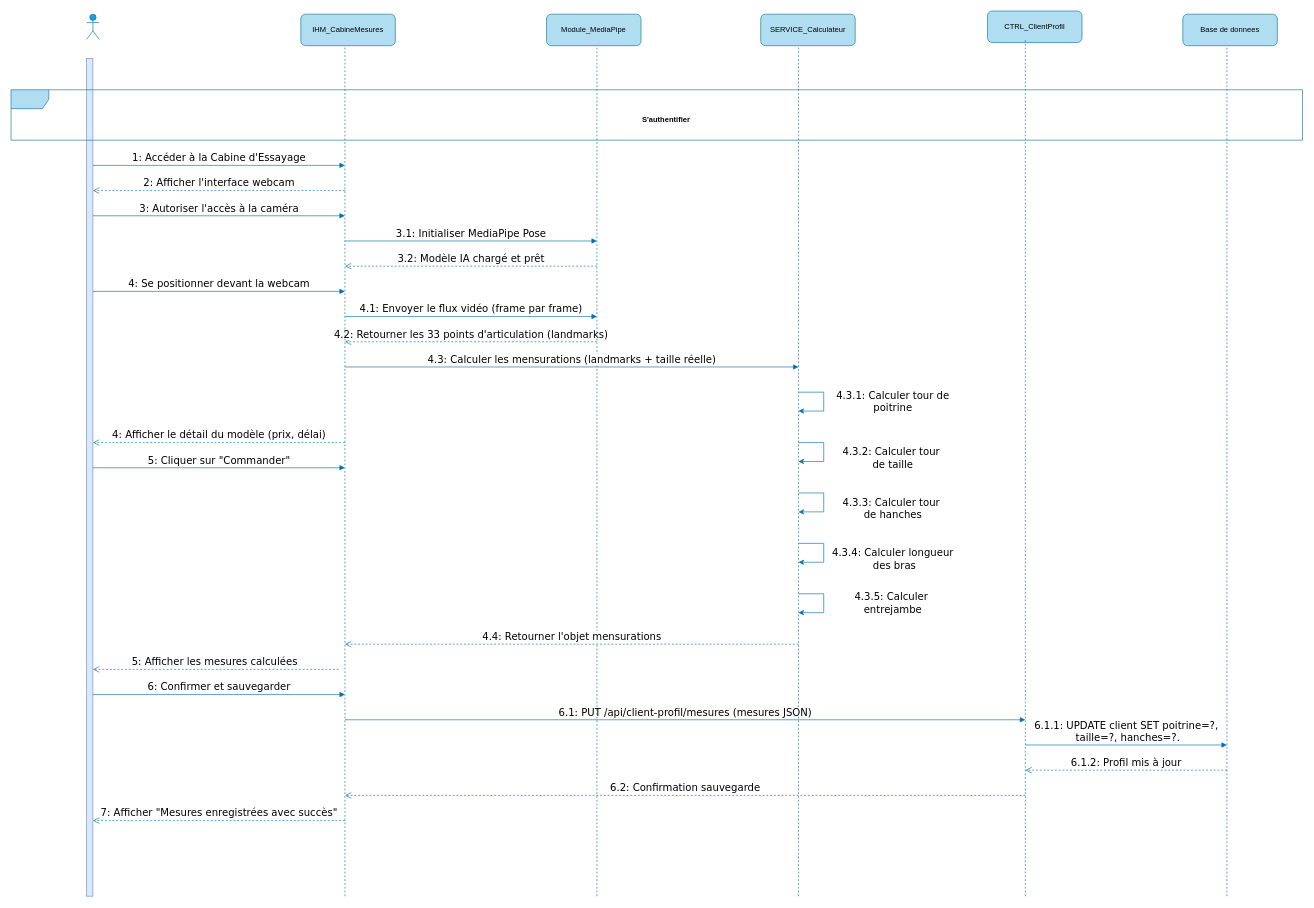
Some shapes in this 1314 by 908 pixel diagram are drawn without their labels. Here are the shapes that lost their labels. From the top down, the box of each, then its label:
(86, 14, 99, 39): Client
(10, 89, 1303, 140): ref
